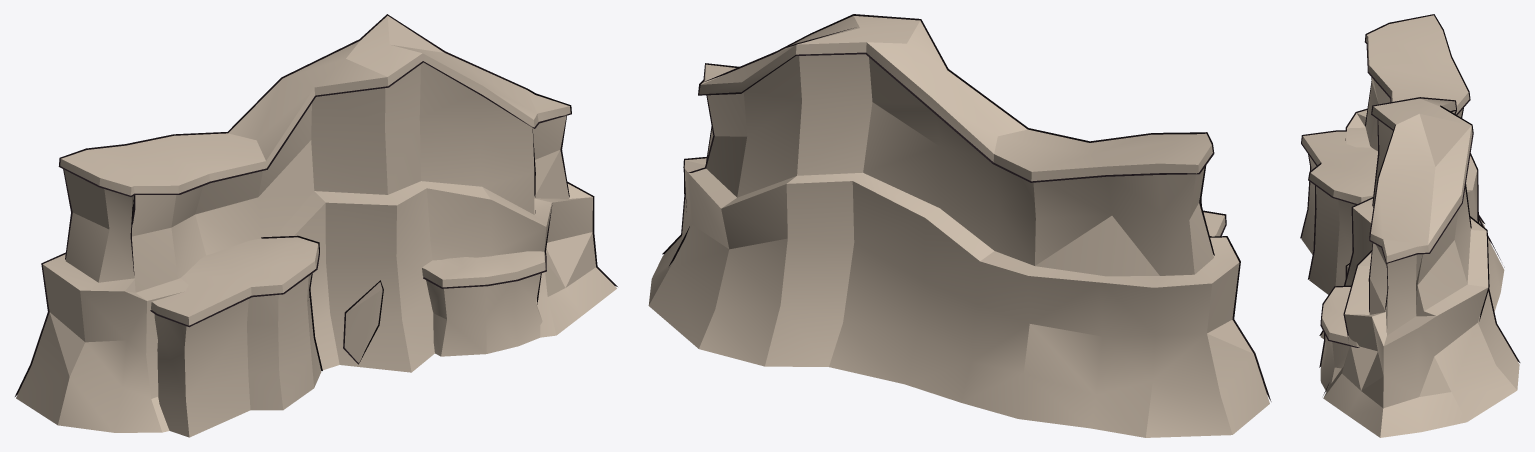
File: SM_Mtn_Wall_01.fbx
3 views of the same model, side by side, from view 1: azimuth 30°, elevation 25°; view 2: azimuth 150°, elevation 25°; view 3: azimuth 270°, elevation 25° (orthographic). The views are drawn at different scales.
Visible parts, largest first — view 1: SM_Mtn_Wall_01; view 2: SM_Mtn_Wall_01; view 3: SM_Mtn_Wall_01.
Part boxes in pixels (x1,y1,x2,y2): SM_Mtn_Wall_01: [15, 14, 617, 437]; SM_Mtn_Wall_01: [648, 14, 1271, 437]; SM_Mtn_Wall_01: [1300, 14, 1520, 437].
Bounding box in the file's own units: 84.52 × 39.75 × 33.2.
